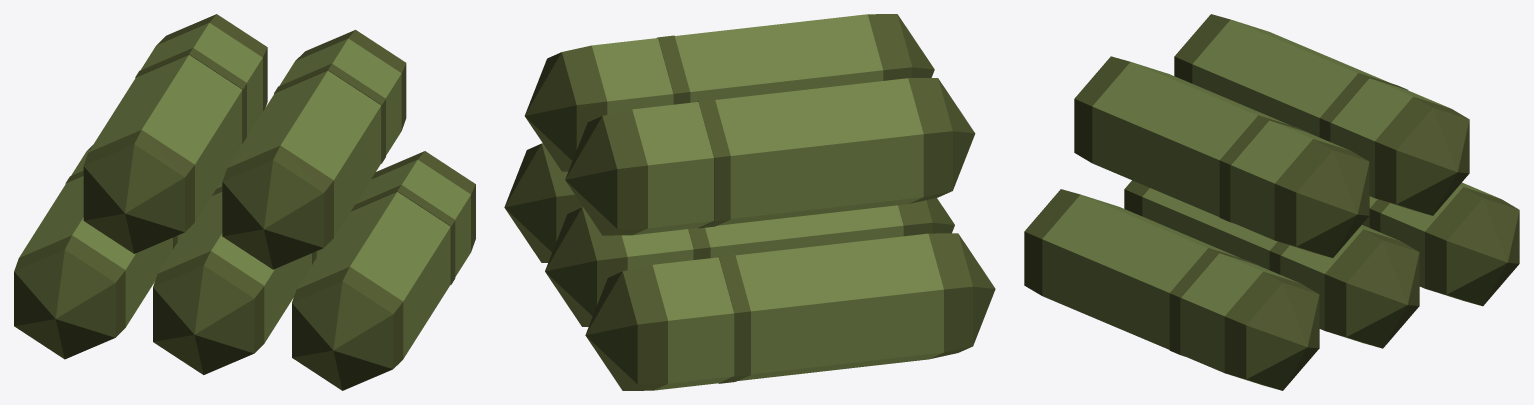
The model's file is ce_ammo2_smaw_thermo_c.obj.
3 renders of one model, left to right at view 1: azimuth 30°, elevation 25°; view 2: azimuth 150°, elevation 25°; view 3: azimuth 270°, elevation 25°, orthographic. The views are drawn at different scales.
Parts seen in each view (by area): view 1: ce_ammo2_smaw_thermo_c_30, ce_ammo2_smaw_thermo_c_23, ce_ammo2_smaw_thermo_c_16, ce_ammo2_smaw_thermo_c_28, ce_ammo2_smaw_thermo_c_7, ce_ammo2_smaw_thermo_c_21, ce_ammo2_smaw_thermo_c_14, ce_ammo2_smaw_thermo_c_0, ce_ammo2_smaw_thermo_c_2, ce_ammo2_smaw_thermo_c_9, ce_ammo2_smaw_thermo_c_32, ce_ammo2_smaw_thermo_c_25 (+12 smaller); view 2: ce_ammo2_smaw_thermo_c_23, ce_ammo2_smaw_thermo_c_2, ce_ammo2_smaw_thermo_c_30, ce_ammo2_smaw_thermo_c_4, ce_ammo2_smaw_thermo_c_25, ce_ammo2_smaw_thermo_c_9, ce_ammo2_smaw_thermo_c_32, ce_ammo2_smaw_thermo_c_27, ce_ammo2_smaw_thermo_c_6, ce_ammo2_smaw_thermo_c_20, ce_ammo2_smaw_thermo_c_34, ce_ammo2_smaw_thermo_c_13 (+18 smaller); view 3: ce_ammo2_smaw_thermo_c_16, ce_ammo2_smaw_thermo_c_30, ce_ammo2_smaw_thermo_c_23, ce_ammo2_smaw_thermo_c_34, ce_ammo2_smaw_thermo_c_27, ce_ammo2_smaw_thermo_c_6, ce_ammo2_smaw_thermo_c_20, ce_ammo2_smaw_thermo_c_13, ce_ammo2_smaw_thermo_c_32, ce_ammo2_smaw_thermo_c_18, ce_ammo2_smaw_thermo_c_9, ce_ammo2_smaw_thermo_c_25 (+14 smaller).
Boxes of the visible parts, x1,y1,x2,y2 form: ce_ammo2_smaw_thermo_c_30: (227, 70, 381, 237); ce_ammo2_smaw_thermo_c_23: (88, 55, 242, 221); ce_ammo2_smaw_thermo_c_16: (297, 192, 450, 358); ce_ammo2_smaw_thermo_c_28: (222, 160, 323, 269); ce_ammo2_smaw_thermo_c_7: (153, 265, 254, 374); ce_ammo2_smaw_thermo_c_21: (83, 144, 184, 253); ce_ammo2_smaw_thermo_c_14: (292, 281, 393, 390); ce_ammo2_smaw_thermo_c_0: (14, 250, 115, 359); ce_ammo2_smaw_thermo_c_2: (19, 176, 172, 327); ce_ammo2_smaw_thermo_c_9: (158, 192, 311, 343); ce_ammo2_smaw_thermo_c_32: (279, 38, 401, 155); ce_ammo2_smaw_thermo_c_25: (141, 23, 262, 136); ce_ammo2_smaw_thermo_c_23: (715, 78, 923, 225); ce_ammo2_smaw_thermo_c_2: (735, 233, 943, 380); ce_ammo2_smaw_thermo_c_30: (675, 14, 883, 102); ce_ammo2_smaw_thermo_c_4: (652, 257, 734, 390); ce_ammo2_smaw_thermo_c_25: (632, 102, 713, 235); ce_ammo2_smaw_thermo_c_9: (705, 205, 903, 257); ce_ammo2_smaw_thermo_c_32: (592, 38, 673, 114); ce_ammo2_smaw_thermo_c_27: (565, 116, 617, 235); ce_ammo2_smaw_thermo_c_6: (585, 271, 637, 390); ce_ammo2_smaw_thermo_c_20: (504, 143, 556, 262); ce_ammo2_smaw_thermo_c_34: (524, 52, 576, 171); ce_ammo2_smaw_thermo_c_13: (545, 207, 596, 326); ce_ammo2_smaw_thermo_c_16: (1042, 194, 1239, 349); ce_ammo2_smaw_thermo_c_30: (1092, 62, 1288, 216); ce_ammo2_smaw_thermo_c_23: (1192, 19, 1389, 137); ce_ammo2_smaw_thermo_c_34: (1296, 150, 1369, 257); ce_ammo2_smaw_thermo_c_27: (1396, 108, 1469, 215); ce_ammo2_smaw_thermo_c_6: (1446, 198, 1519, 306); ce_ammo2_smaw_thermo_c_20: (1246, 283, 1319, 390); ce_ammo2_smaw_thermo_c_13: (1346, 240, 1419, 348); ce_ammo2_smaw_thermo_c_32: (1231, 120, 1349, 240); ce_ammo2_smaw_thermo_c_18: (1181, 253, 1299, 372); ce_ammo2_smaw_thermo_c_9: (1142, 188, 1277, 269); ce_ammo2_smaw_thermo_c_25: (1331, 78, 1448, 197).
Size of the model in its own units: 0.7098 by 0.3582 by 0.7098.
